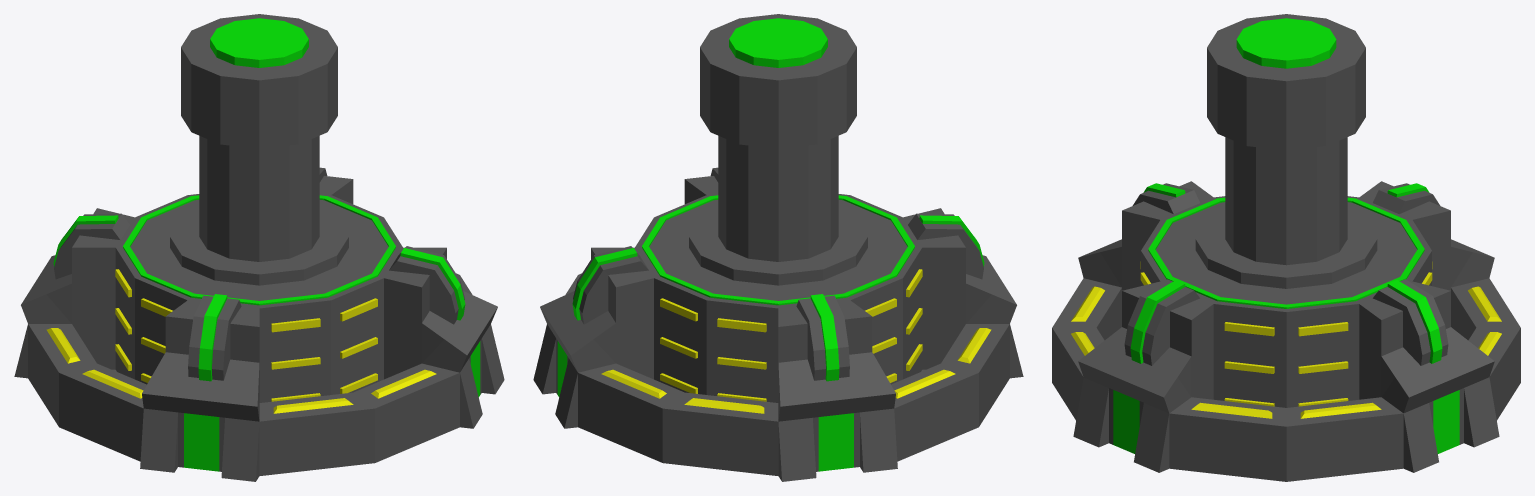
The model's file is Harvester.fbx.
3 renders of one model, left to right at view 1: azimuth 30°, elevation 25°; view 2: azimuth 150°, elevation 25°; view 3: azimuth 270°, elevation 25°, orthographic.
Visible parts, largest first — view 1: Harvester; view 2: Harvester; view 3: Harvester.
Boxes of the visible parts, x1,y1,x2,y2 form: Harvester: [14, 14, 504, 481]; Harvester: [533, 14, 1023, 481]; Harvester: [1052, 14, 1520, 481].
Bounding box in the file's own units: 1.31 × 1.06 × 1.31.
